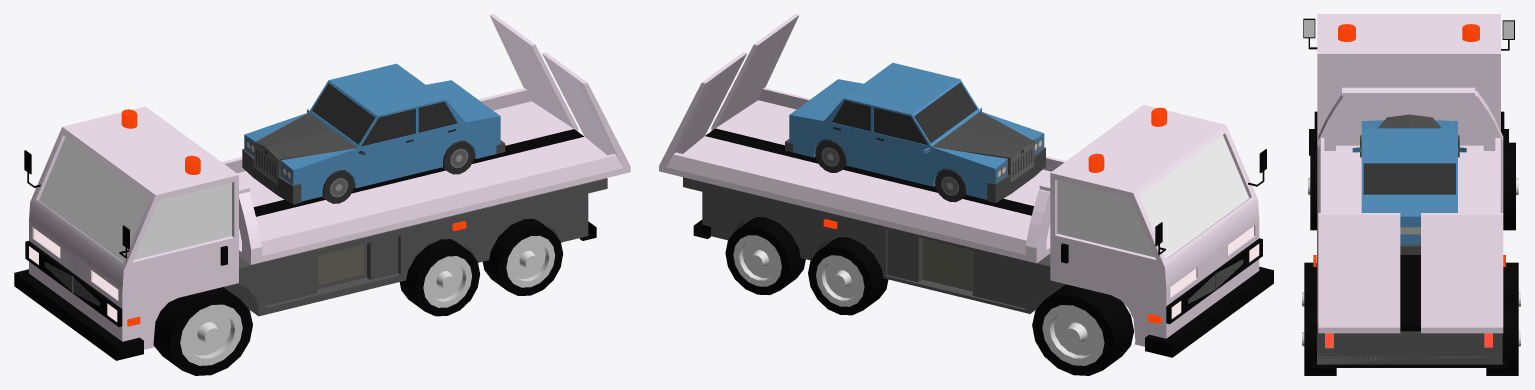
File: tow_2.glb
The picture shows the model from 3 angles, left to right: view 1: azimuth 30°, elevation 25°; view 2: azimuth 150°, elevation 25°; view 3: azimuth 270°, elevation 25°; orthographic projection.
Visible parts, largest first — view 1: 1st tow truck.003, 1st tow truck.001, Vehicle_Car_color02.002, 1st tow tires.001; view 2: 1st tow truck.003, 1st tow truck.001, Vehicle_Car_color02.002, 1st tow tires.001; view 3: 1st tow truck.001, 1st tow truck.003, Vehicle_Car_color02.002, 1st tow tires.001.
Boxes of the visible parts, bbox=[...] form: 1st tow truck.003: bbox=[14, 106, 607, 360]; 1st tow truck.001: bbox=[222, 14, 630, 264]; Vehicle_Car_color02.002: bbox=[242, 63, 505, 204]; 1st tow tires.001: bbox=[153, 218, 563, 375]; 1st tow truck.003: bbox=[683, 104, 1273, 357]; 1st tow truck.001: bbox=[659, 14, 1065, 263]; Vehicle_Car_color02.002: bbox=[785, 62, 1045, 202]; 1st tow tires.001: bbox=[725, 217, 1133, 375]; 1st tow truck.001: bbox=[1318, 87, 1503, 333]; 1st tow truck.003: bbox=[1303, 14, 1514, 367]; Vehicle_Car_color02.002: bbox=[1352, 114, 1466, 254]; 1st tow tires.001: bbox=[1302, 142, 1520, 375].
Size of the model in its own units: 10.04 by 3.75 by 3.74.
13 materials, 1 textured.
